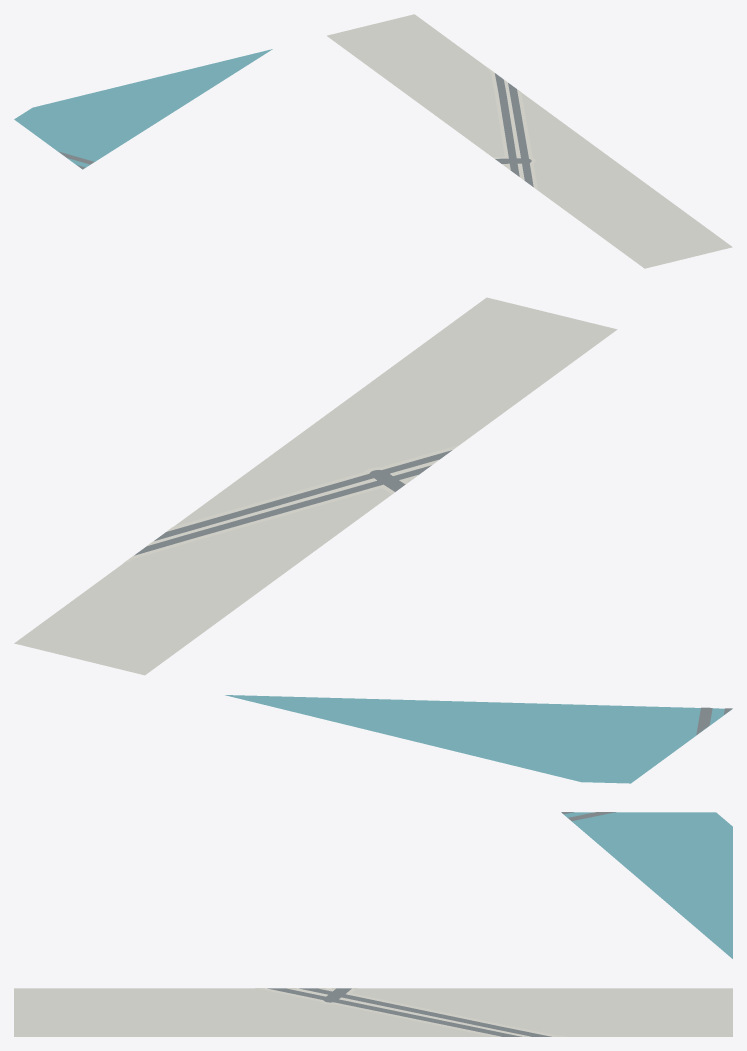
3 renders of one model, top to bottom at view 1: azimuth 30°, elevation 25°; view 2: azimuth 150°, elevation 25°; view 3: azimuth 270°, elevation 25°, orthographic. The views are drawn at different scales.
Visible parts, largest first — view 1: city; view 2: city; view 3: city.
Part boxes in pixels (x1=…): city: x1=14, y1=14, x2=732, y2=268; city: x1=14, y1=297, x2=732, y2=783; city: x1=14, y1=812, x2=732, y2=1036.
Bounding box in the file's own units: 370 × 0.4 × 500.
